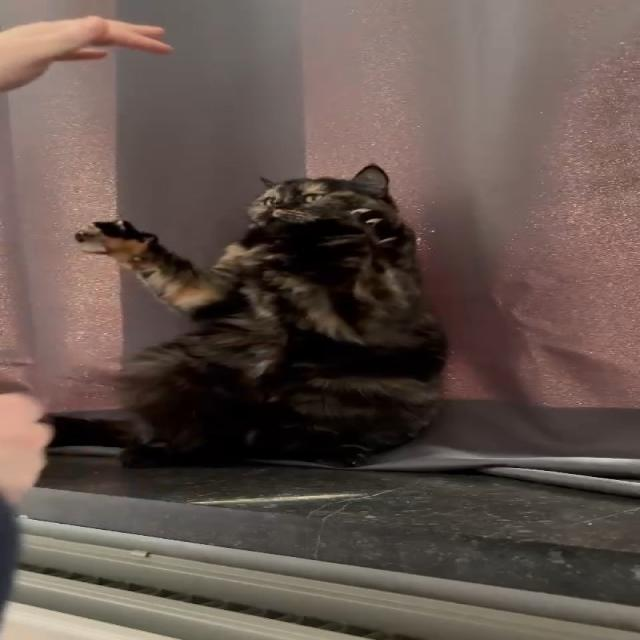authorized: (64, 162, 451, 469)
